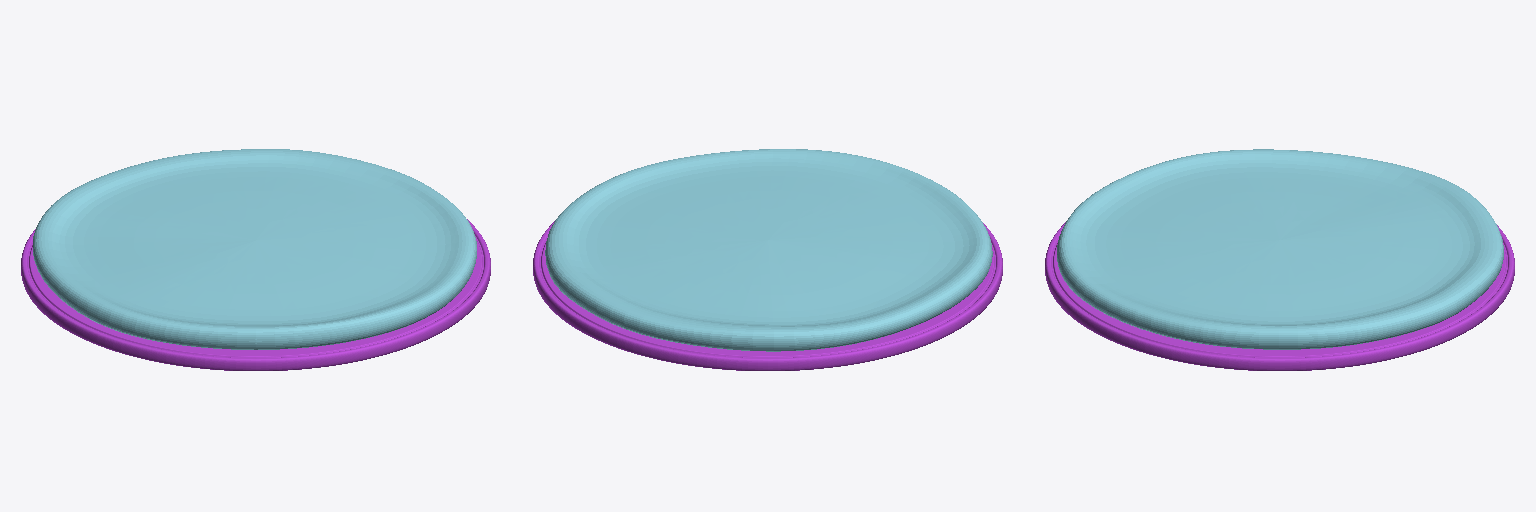
The model's file is Pizza_OBJ.obj.
3 renders of one model, left to right at view 1: azimuth 30°, elevation 25°; view 2: azimuth 150°, elevation 25°; view 3: azimuth 270°, elevation 25°, orthographic.
Visible parts, largest first — view 1: Cylinder001, Cylinder002; view 2: Cylinder001, Cylinder002; view 3: Cylinder001, Cylinder002.
Part boxes in pixels (x1,y1,x2,y2): Cylinder001: (33, 149, 476, 349); Cylinder002: (21, 219, 490, 370); Cylinder001: (545, 149, 992, 351); Cylinder002: (533, 221, 1002, 370); Cylinder001: (1057, 149, 1503, 349); Cylinder002: (1045, 222, 1514, 370).
Size of the model in its own units: 417 by 33.55 by 417.